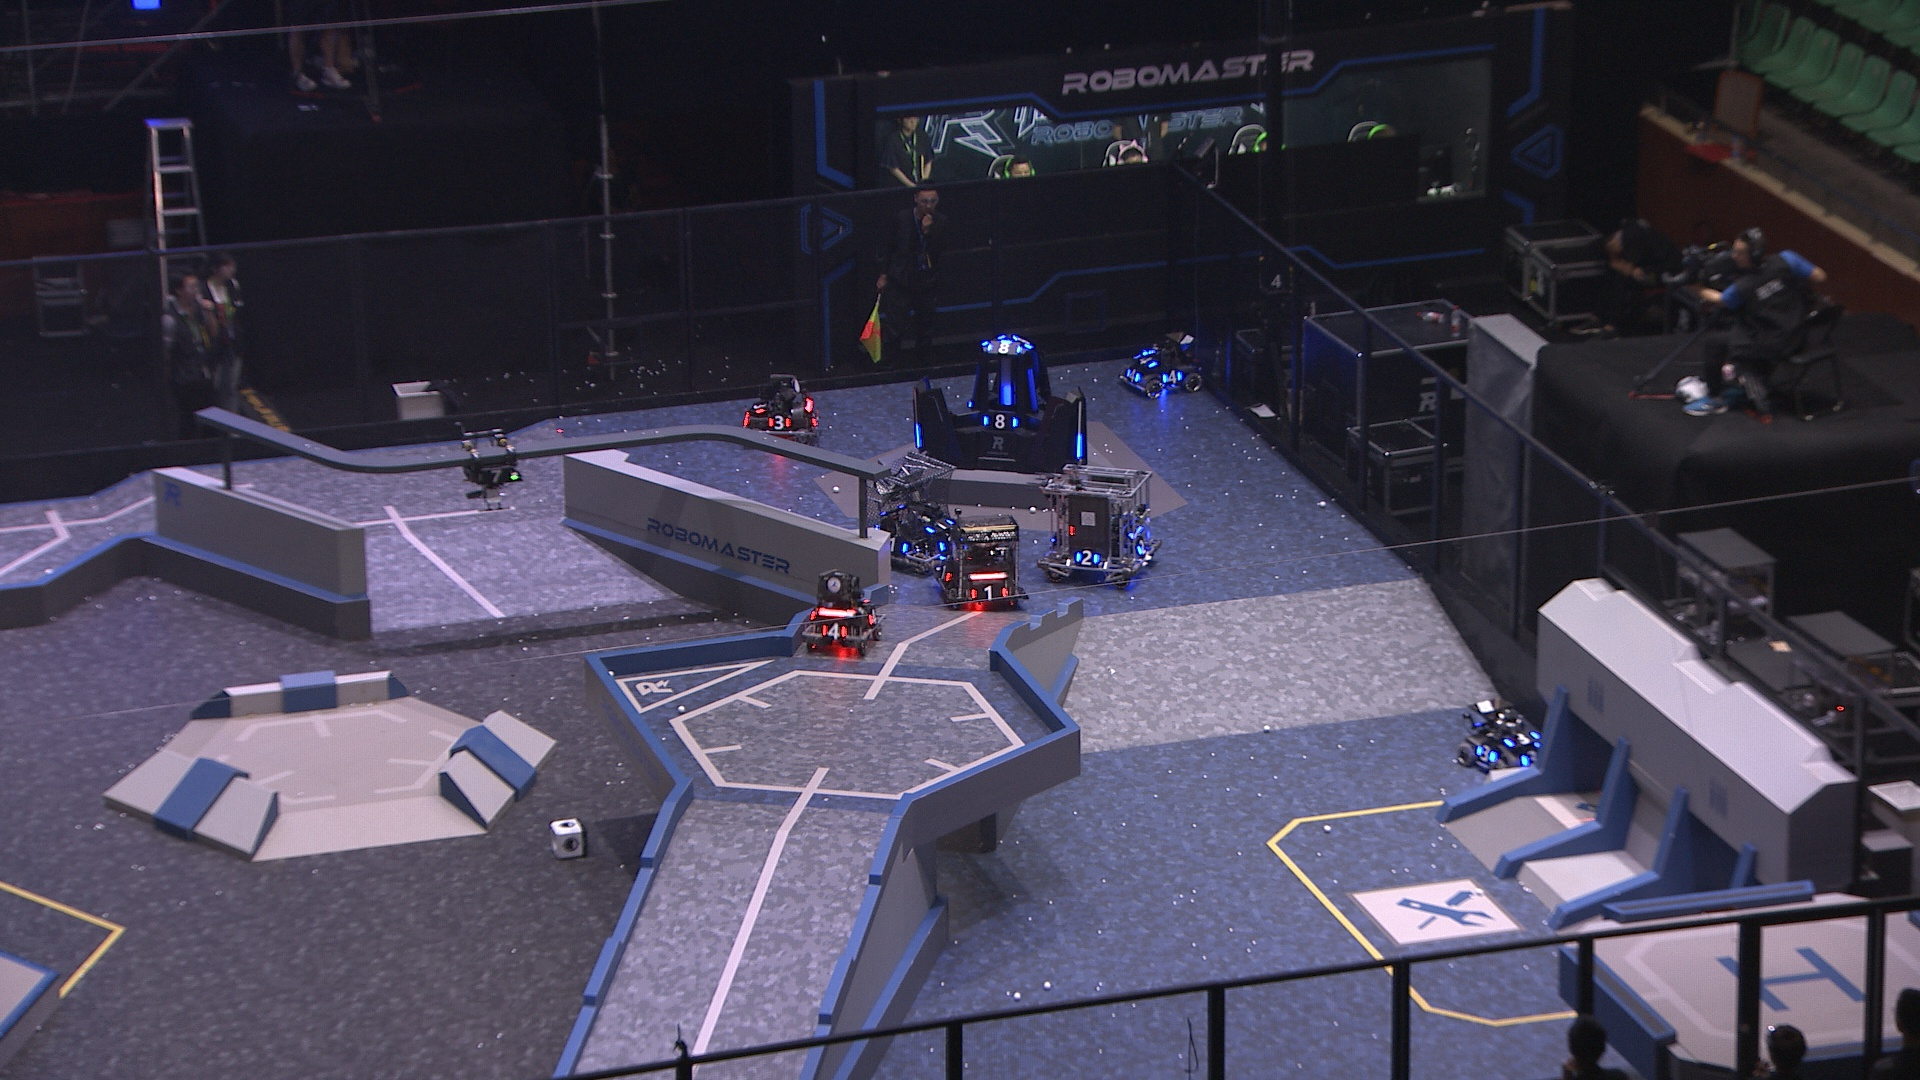armor: (473, 463, 520, 488), (968, 582, 1011, 607), (978, 409, 1021, 433), (1498, 727, 1542, 746), (982, 338, 1025, 357), (764, 410, 796, 433), (1025, 368, 1040, 414), (938, 534, 971, 555), (1472, 742, 1501, 765), (822, 621, 851, 641), (1519, 746, 1545, 767), (924, 518, 955, 535), (1131, 349, 1162, 367), (1072, 549, 1100, 567), (884, 535, 911, 553), (1159, 368, 1187, 385), (934, 560, 953, 584), (746, 396, 767, 417), (1072, 433, 1087, 462), (1124, 365, 1145, 385), (864, 608, 884, 628), (1133, 537, 1150, 556), (913, 423, 923, 451), (1000, 384, 1013, 405)
base: (906, 332, 1091, 476)
car: (1031, 460, 1163, 585), (856, 447, 973, 575), (932, 512, 1029, 611), (796, 567, 887, 659), (1451, 695, 1551, 775), (738, 367, 825, 447), (1114, 328, 1211, 400)
watcher: (456, 425, 524, 514)
